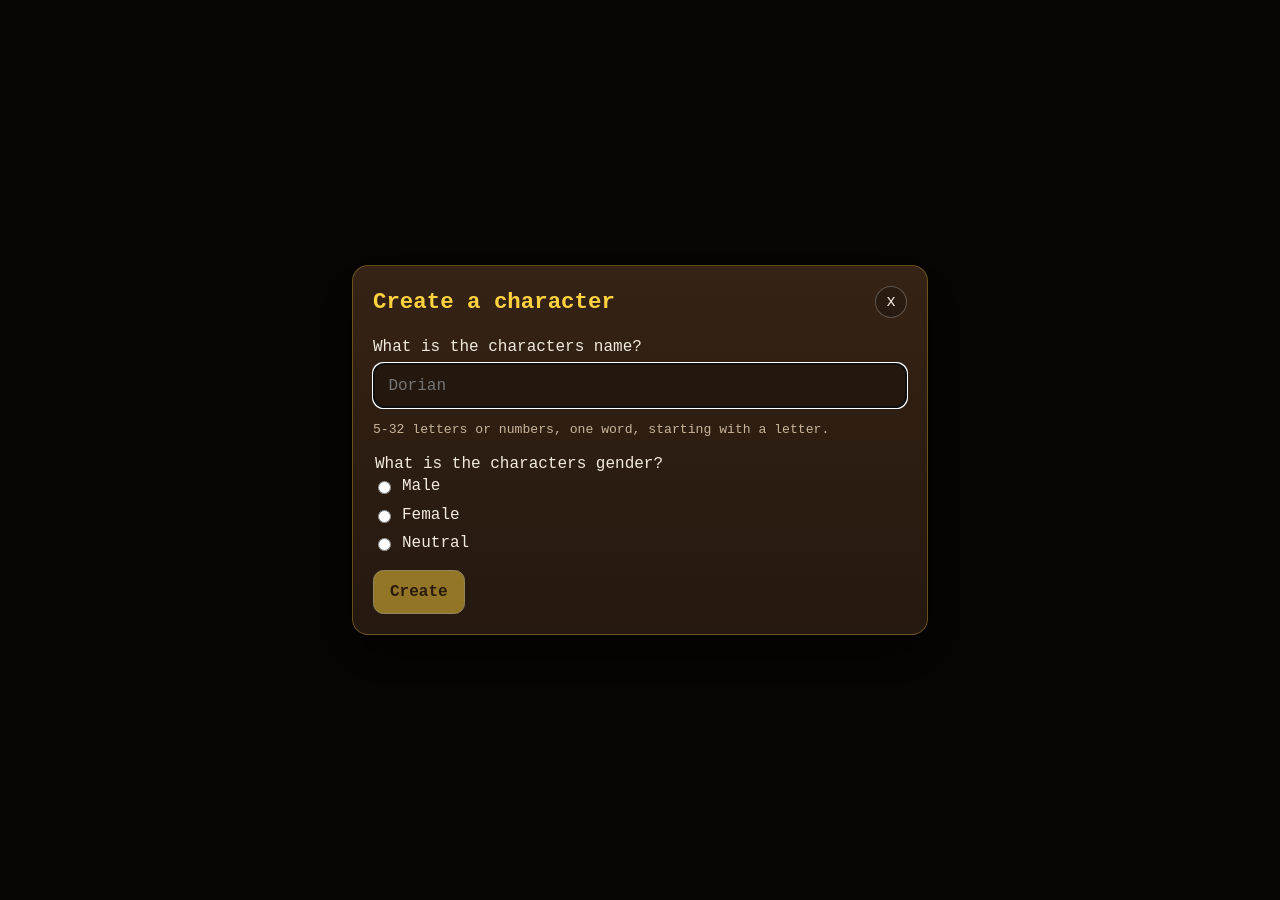
Scenario: CharacterEntryModal › keeps Create disabled until name is available and gender is selected
Expected: the button "Create" is disabled, 373,570 -> 465,614
Type "dorian" into the field with placeholder "Dorian".
click(640, 386); type("dorian")  # box 373,363 -> 907,408
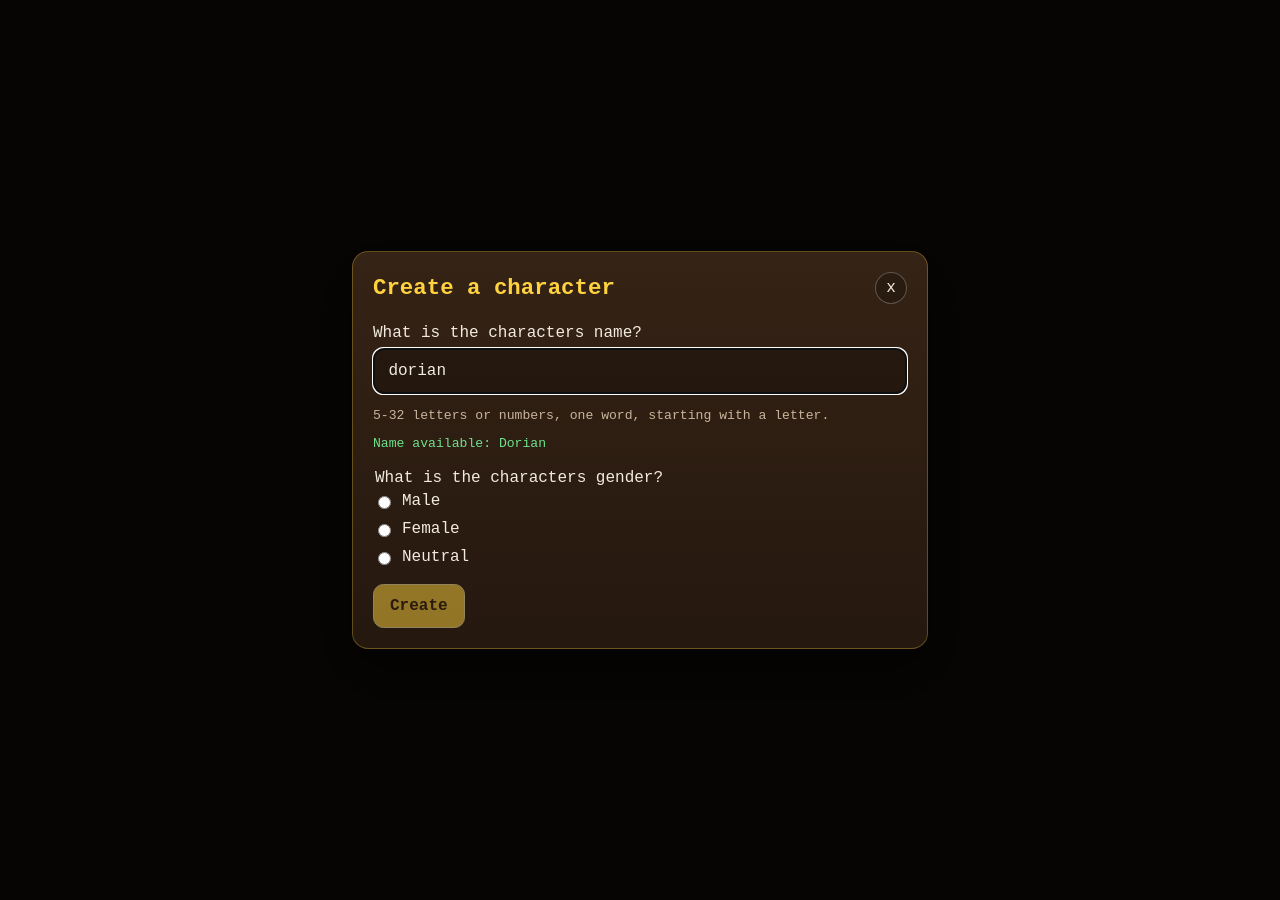
Expected: the button "Create" is disabled, 373,584 -> 465,628
Now the text "Name available: Dorian" is shown, box 373,436 -> 546,451
Click the radio button labelled "Neutral".
click(384, 559)  # box 378,552 -> 391,565
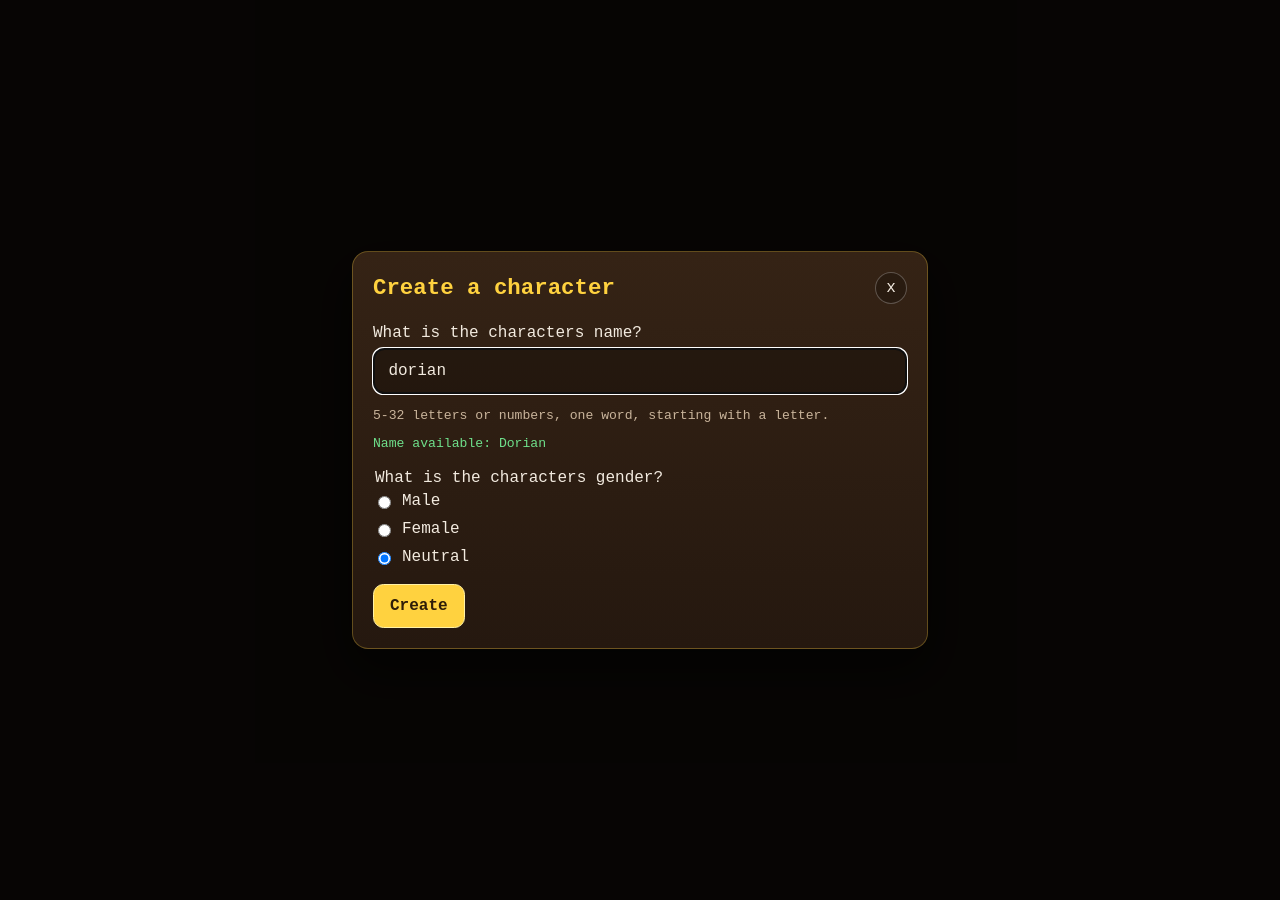
Now the button "Create" is enabled, box 373,584 -> 465,628
